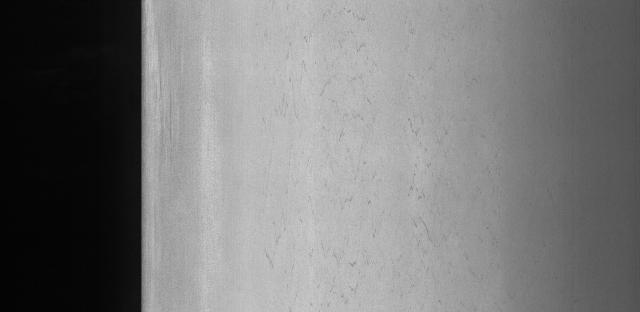silk_spot: (255, 11, 494, 306)
